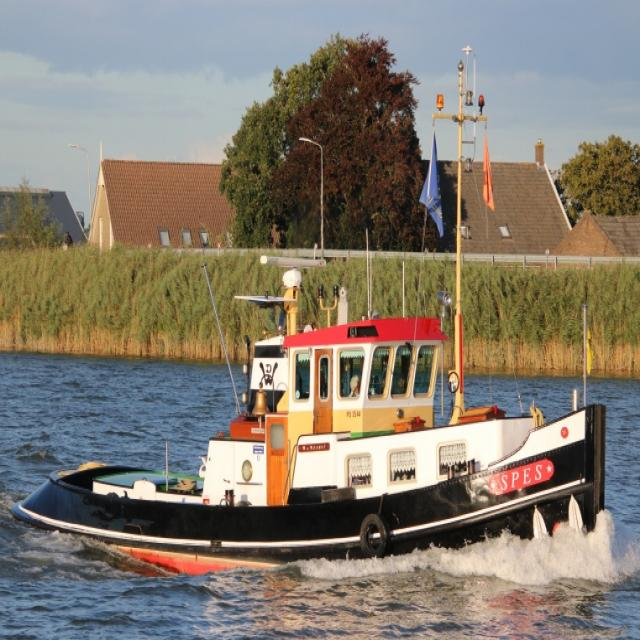tugboat: (5, 248, 613, 585)
